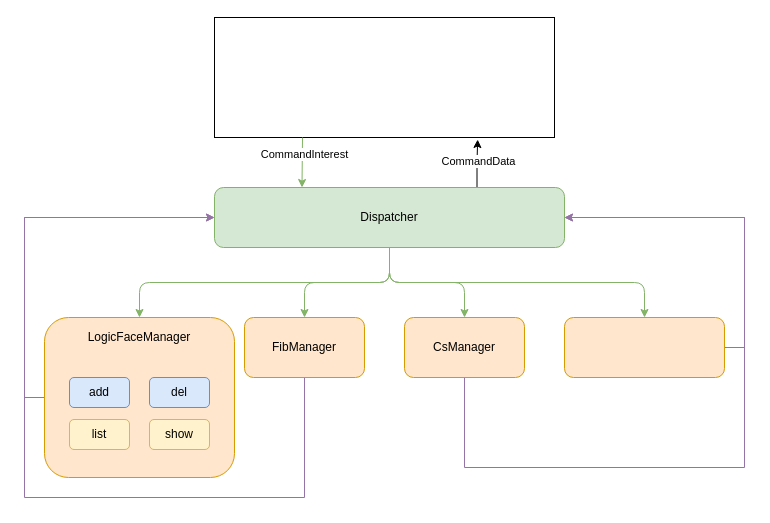
Some shapes in this 770 by 523 pixel diagram are drawn without their labels. Here are the shapes that lost their labels. From the top down, the box of each, then its label:
(214, 16, 554, 138): Forwarder
(564, 316, 724, 378): ForwarderStatusManager
